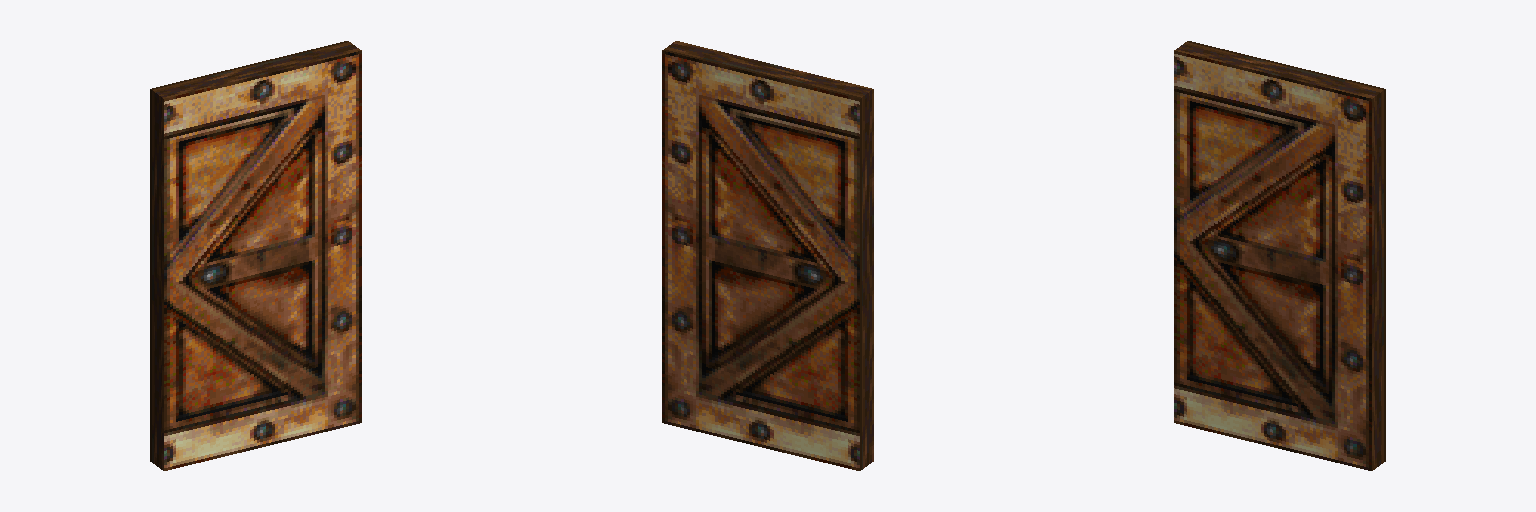
The picture shows the model from 3 angles: view 1: azimuth 30°, elevation 25°; view 2: azimuth 150°, elevation 25°; view 3: azimuth 330°, elevation 25°; orthographic projection.
Parts seen in each view (by area): view 1: model9004-node_model9004; view 2: model9004-node_model9004; view 3: model9004-node_model9004.
Part boxes in pixels (bbox=[...]): model9004-node_model9004: bbox=[150, 41, 361, 470]; model9004-node_model9004: bbox=[662, 41, 873, 470]; model9004-node_model9004: bbox=[1174, 41, 1385, 470].
Size of the model in its own units: 1.25 by 2.25 by 0.15.
Materials: 2 (2 with a texture image).